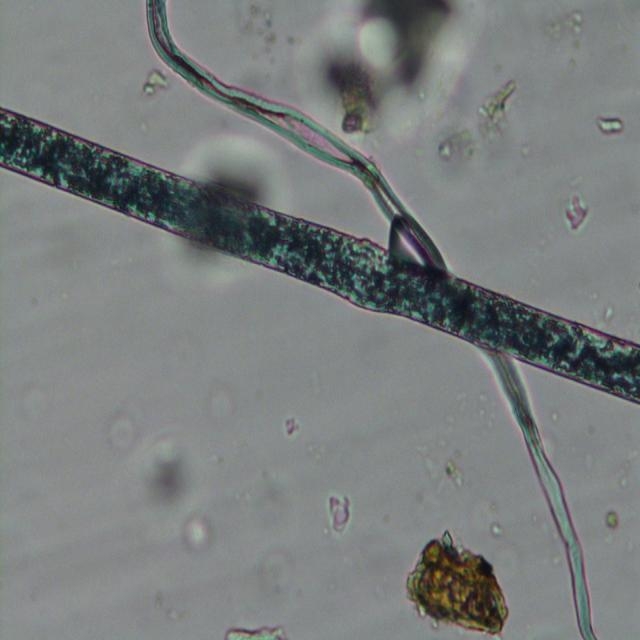Background material: (315, 0, 453, 154), (399, 524, 520, 640), (430, 76, 514, 168), (188, 127, 282, 205), (132, 437, 204, 520), (162, 223, 240, 290), (404, 440, 466, 496), (245, 478, 299, 540), (251, 528, 295, 592), (118, 52, 172, 102), (556, 181, 600, 238), (541, 1, 594, 43), (316, 488, 360, 535), (192, 379, 236, 423), (106, 402, 140, 452), (9, 379, 49, 420), (222, 616, 288, 640), (178, 514, 218, 553), (586, 100, 626, 135), (157, 586, 187, 627), (277, 412, 300, 438), (597, 507, 625, 527)
Cellulose filter fibre: (122, 0, 436, 260), (491, 356, 607, 637)
Microfibre: (0, 110, 640, 412)
